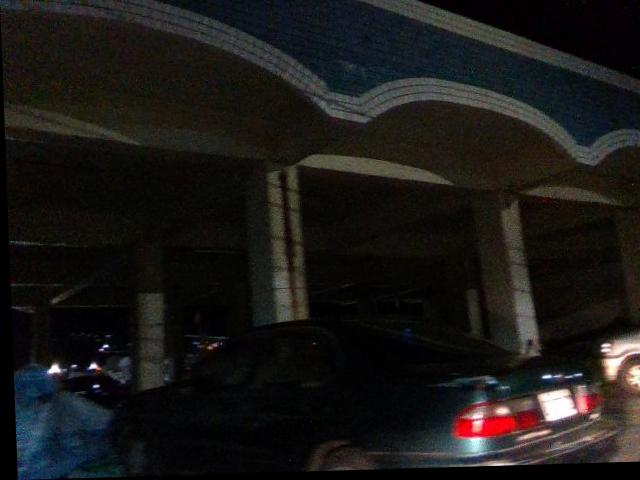pollute: (15, 360, 122, 477)
